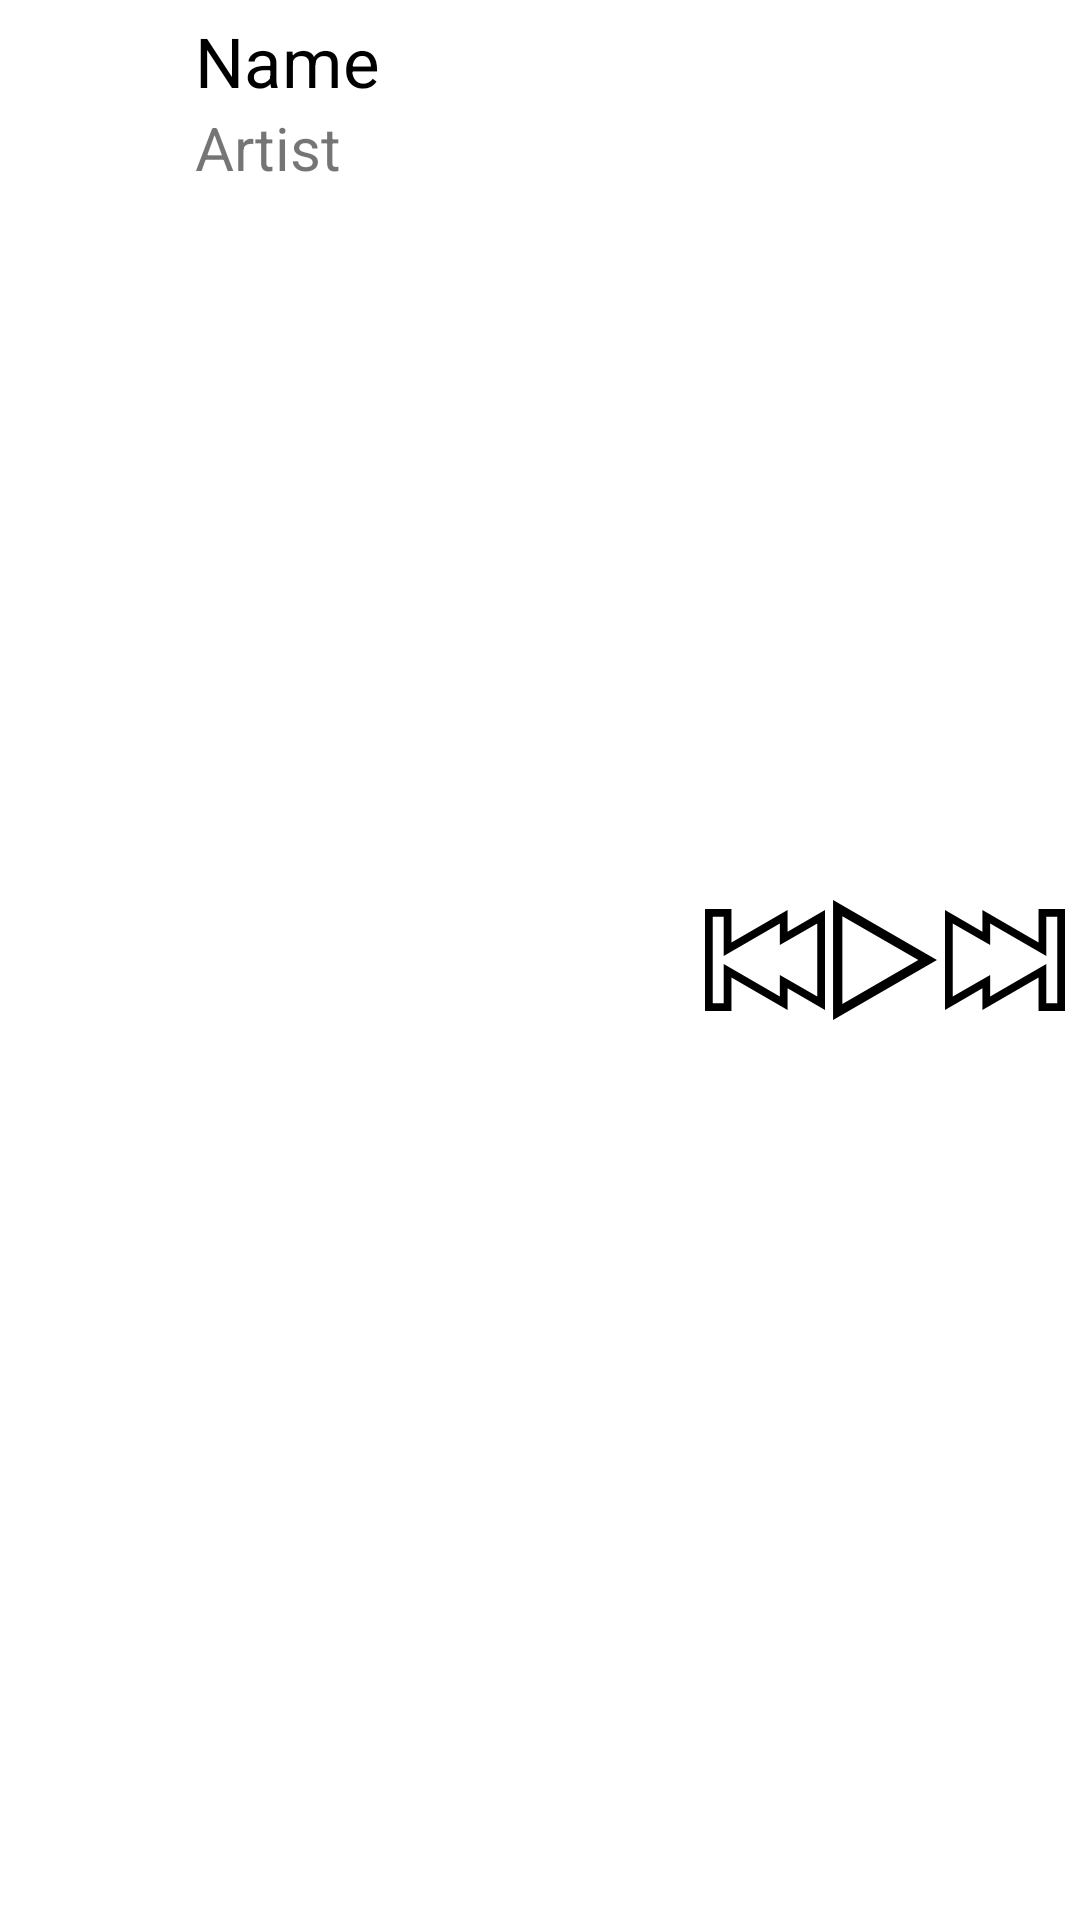

Where icons sit on this 1080w x 1920h app screen, as (x1, y1, x2, y2):
next: (945, 909, 1065, 1011)
play: (833, 900, 937, 1020)
previous: (705, 909, 825, 1011)
